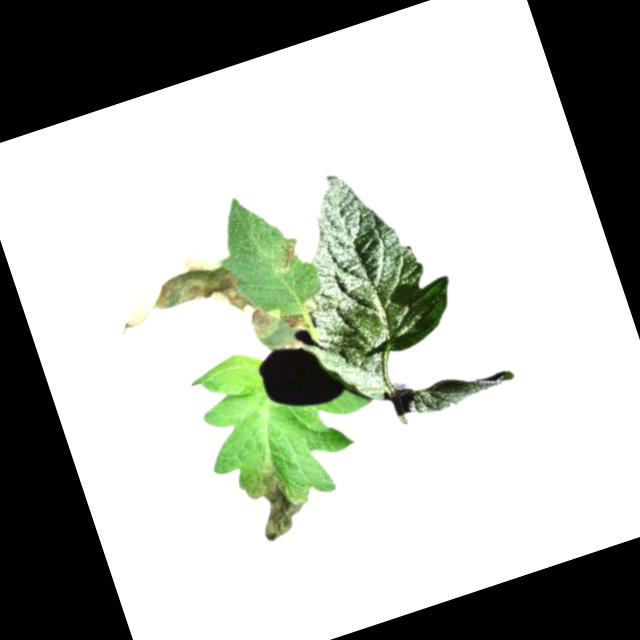Late_blight: (110, 231, 284, 381), (237, 456, 315, 545), (272, 238, 303, 274), (279, 307, 309, 335)
healthy: (271, 149, 479, 415)
